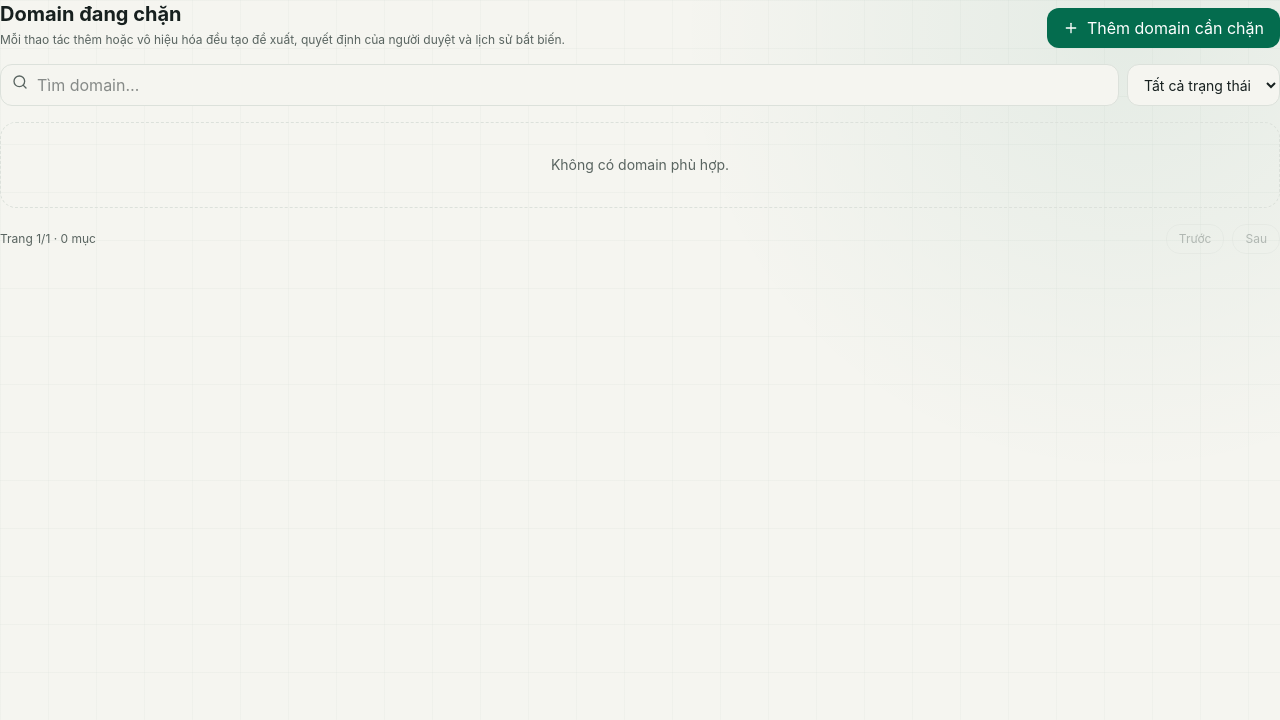
Test case: M5 blacklist registry › creates a proposal and reports success only after an executed decision
Expected: the text "Không có domain phù hợp." is shown, [0, 122, 1279, 208]
Step 1. Click the button "Thêm domain cần chặn" → (1163, 28), box [1047, 8, 1279, 48]
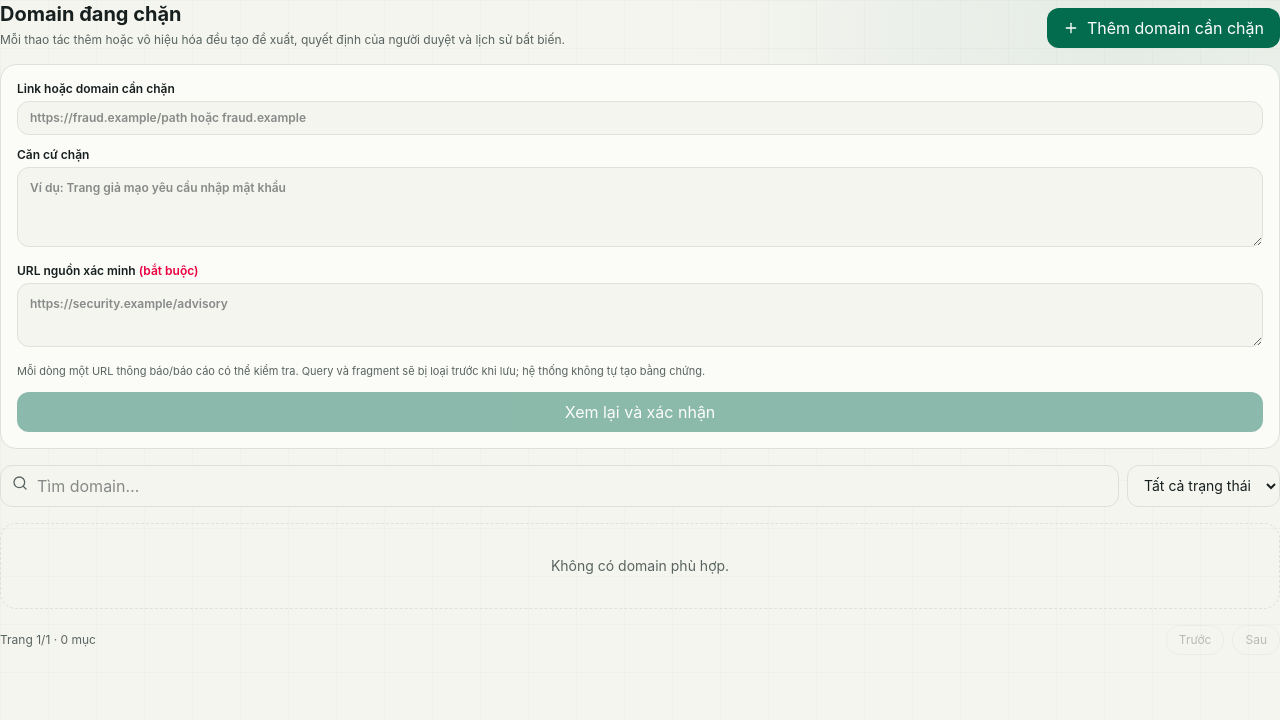
Step 2. Type "https://Fraud.Example/login?token=secret" into the field labelled "Link hoặc domain cần chặn" → (640, 118), box [17, 101, 1263, 135]
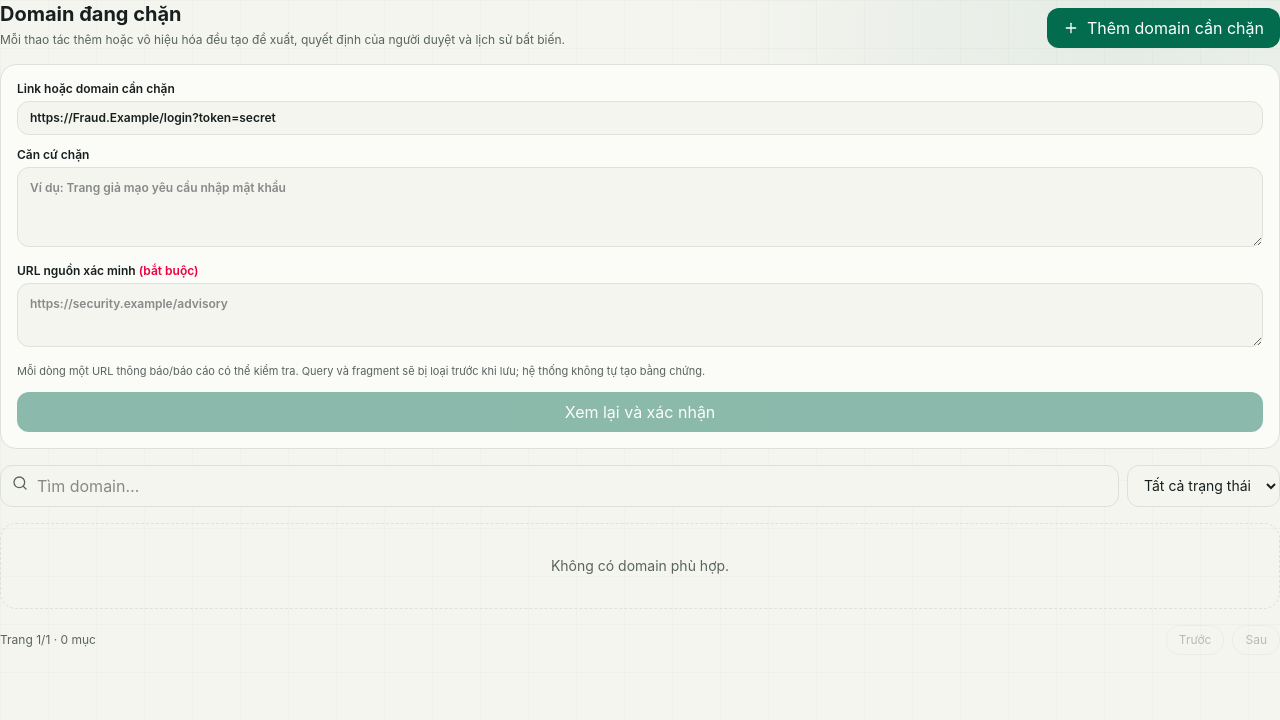
Step 3. Type "Credential theft" into the text box labelled "Căn cứ chặn" → (640, 207), box [17, 167, 1263, 247]
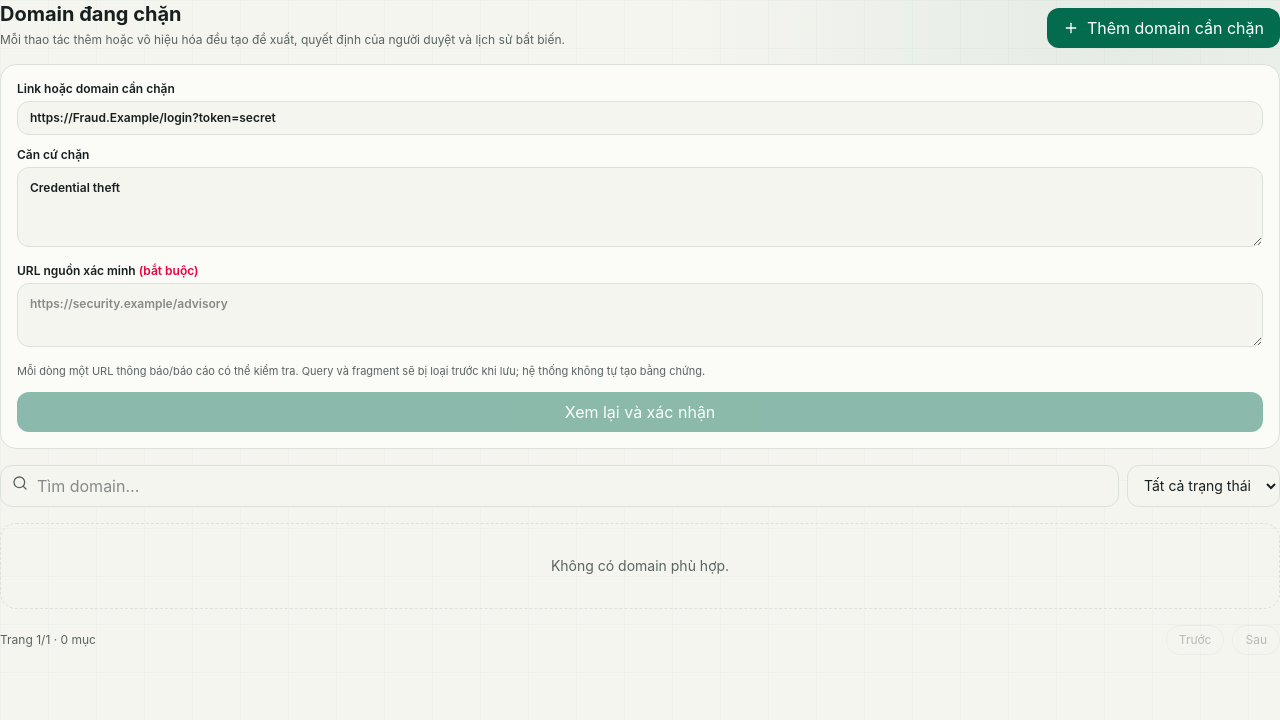
Step 4. Type "https://security.example/advisory?token=secret#finding" into the text box named "URL nguồn xác minh blacklist" → (640, 315), box [17, 283, 1263, 347]
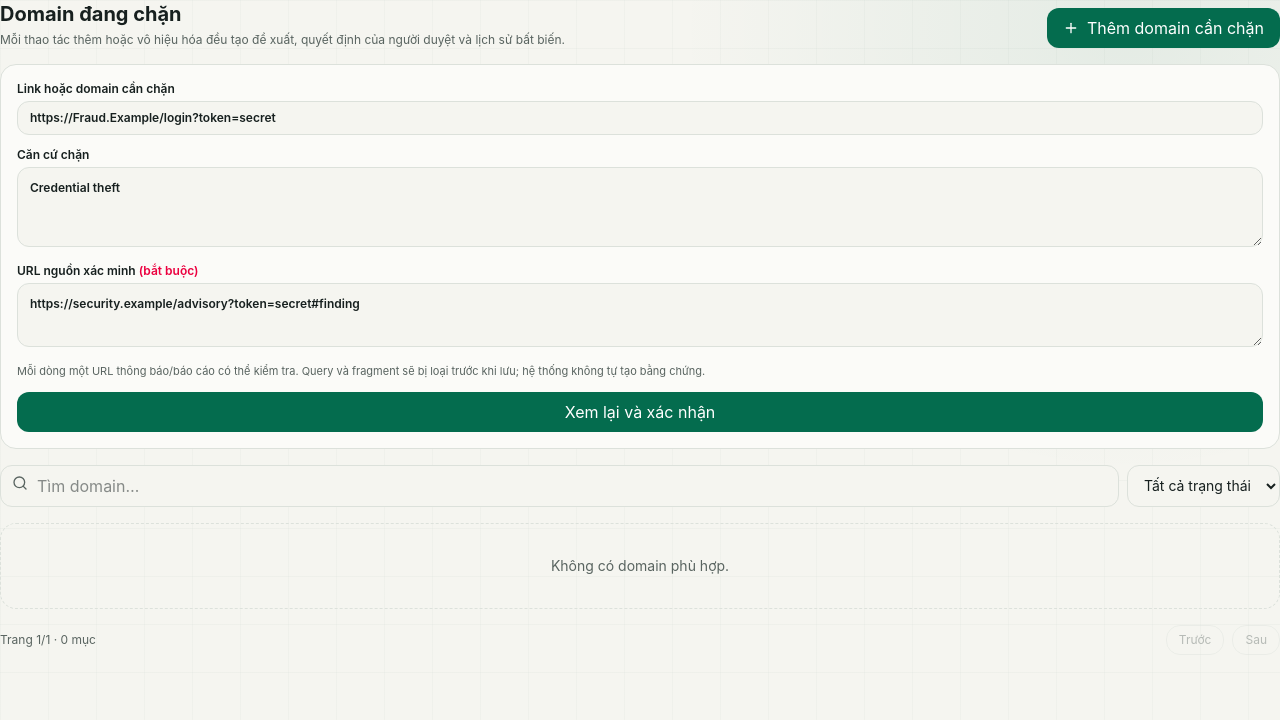
Step 5. Click the button "Xem lại và xác nhận" → (640, 412), box [17, 392, 1263, 432]
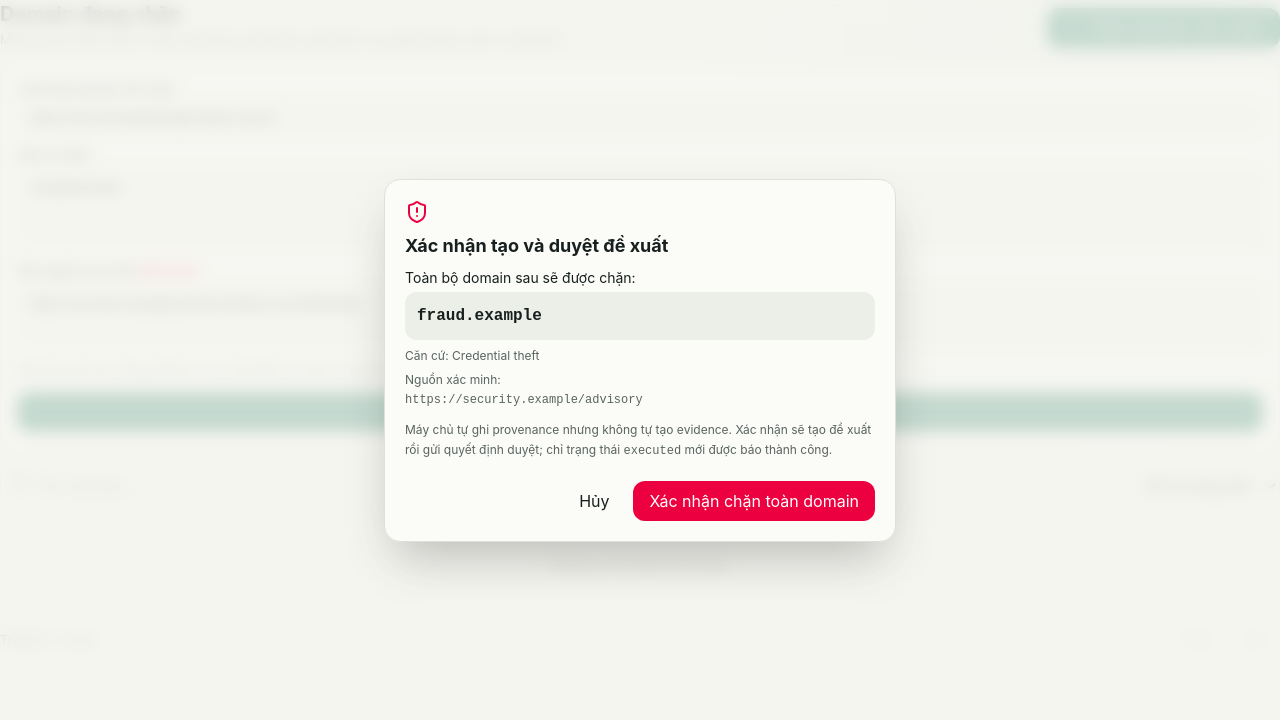
Expected: the dialog shows "fraud.example", [417, 306, 542, 324]
Expected: the dialog shows "https://security.example/advisory", [405, 392, 643, 406]
Step 6. Click the button "Xác nhận chặn toàn domain" → (754, 500), box [634, 480, 875, 520]
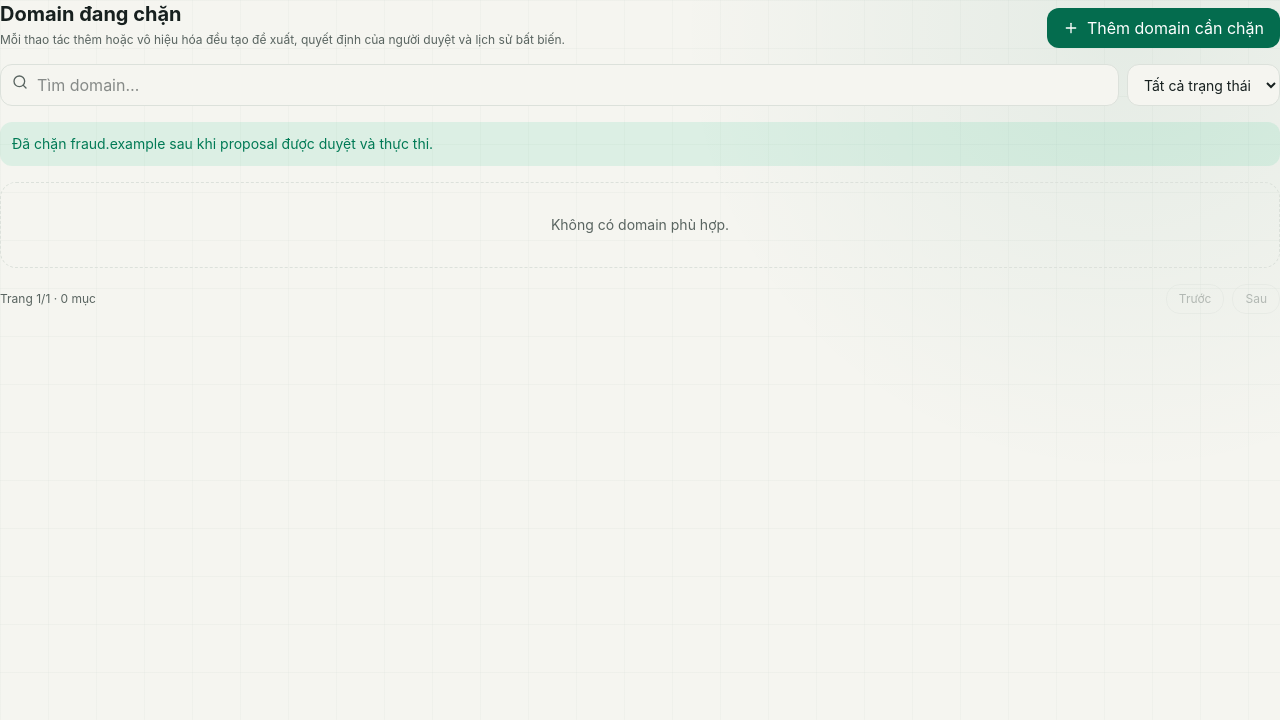
Expected: the message shows "Đã chặn fraud.example", [12, 135, 433, 152]
